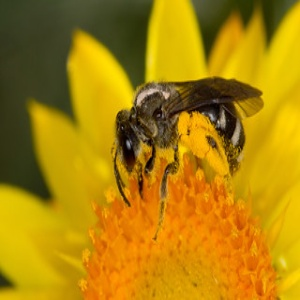bee: (110, 76, 270, 241)
